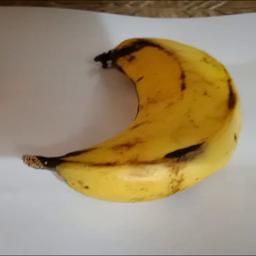Banana Semifresh: (22, 35, 241, 207)
